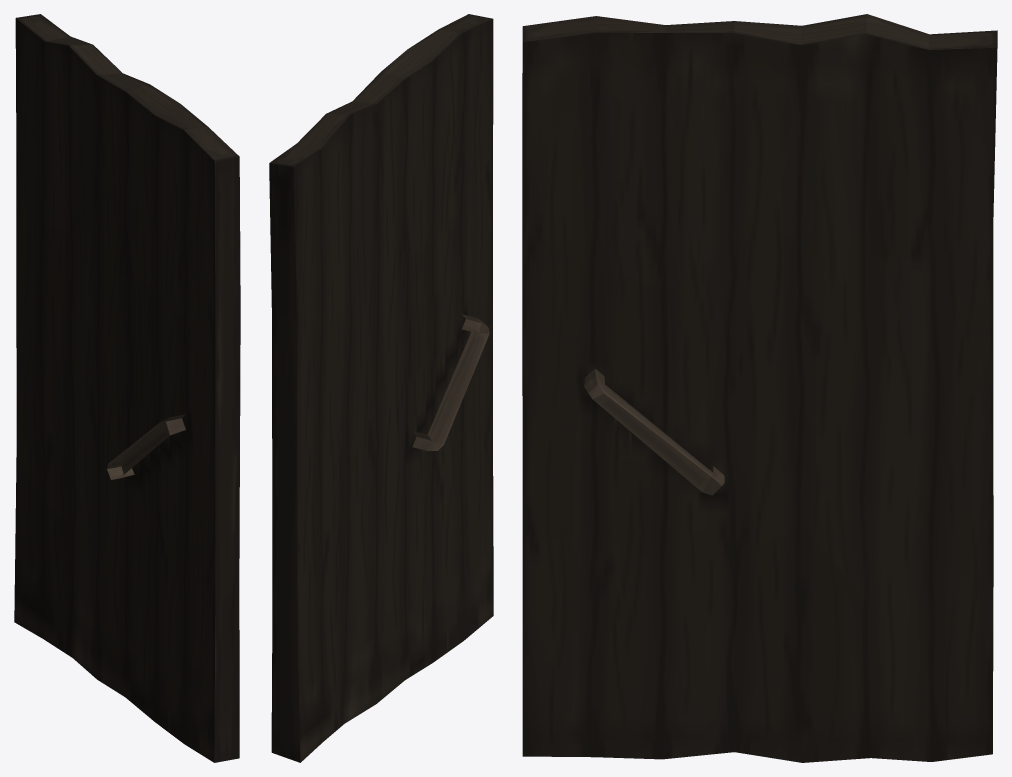
The model's file is Door.fbx.
The picture shows the model from 3 angles, left to right: view 1: azimuth 30°, elevation 25°; view 2: azimuth 150°, elevation 25°; view 3: azimuth 270°, elevation 25°; orthographic projection. The views are drawn at different scales.
Visible parts, largest first — view 1: Door; view 2: Door; view 3: Door.
Boxes of the visible parts, x1,y1,x2,y2 form: Door: (14,14,240,762); Door: (269,14,493,762); Door: (522,14,997,762).
Size of the model in its own units: 0.4614 by 3.43 by 2.01.
